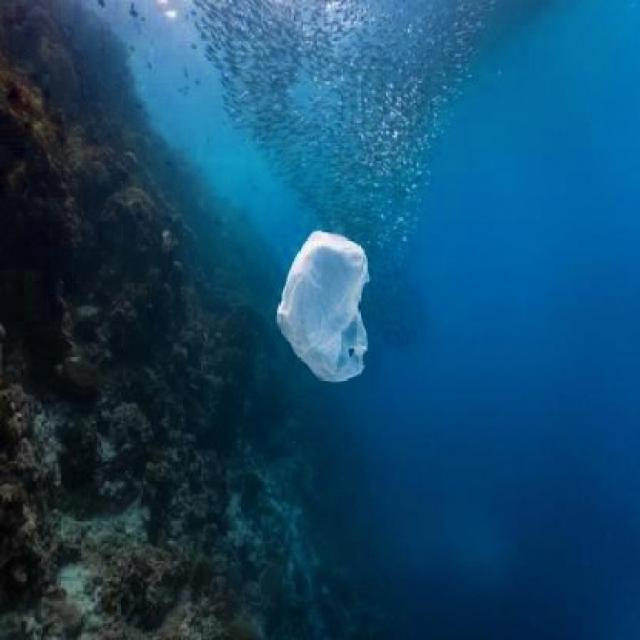pbag: (275, 228, 373, 386)
